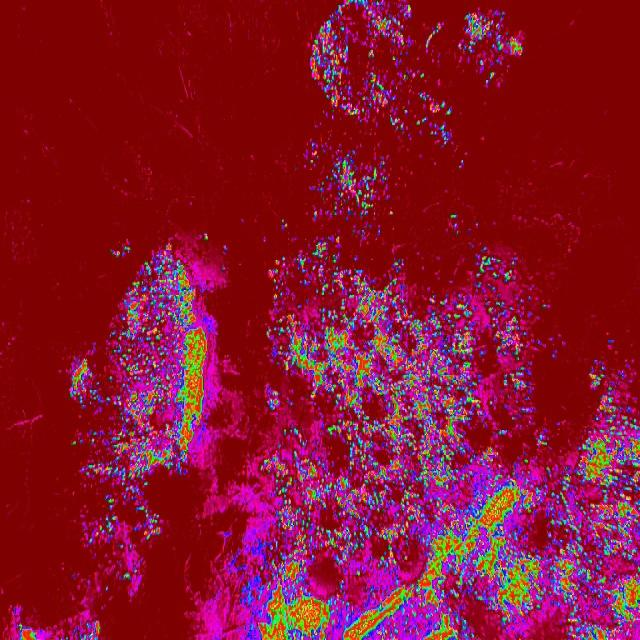fire: (265, 250, 534, 640), (115, 238, 217, 463), (308, 0, 448, 139), (72, 355, 162, 565), (582, 366, 640, 640), (534, 427, 582, 640), (458, 10, 526, 90), (324, 154, 392, 227), (232, 519, 264, 640), (18, 619, 101, 640)
